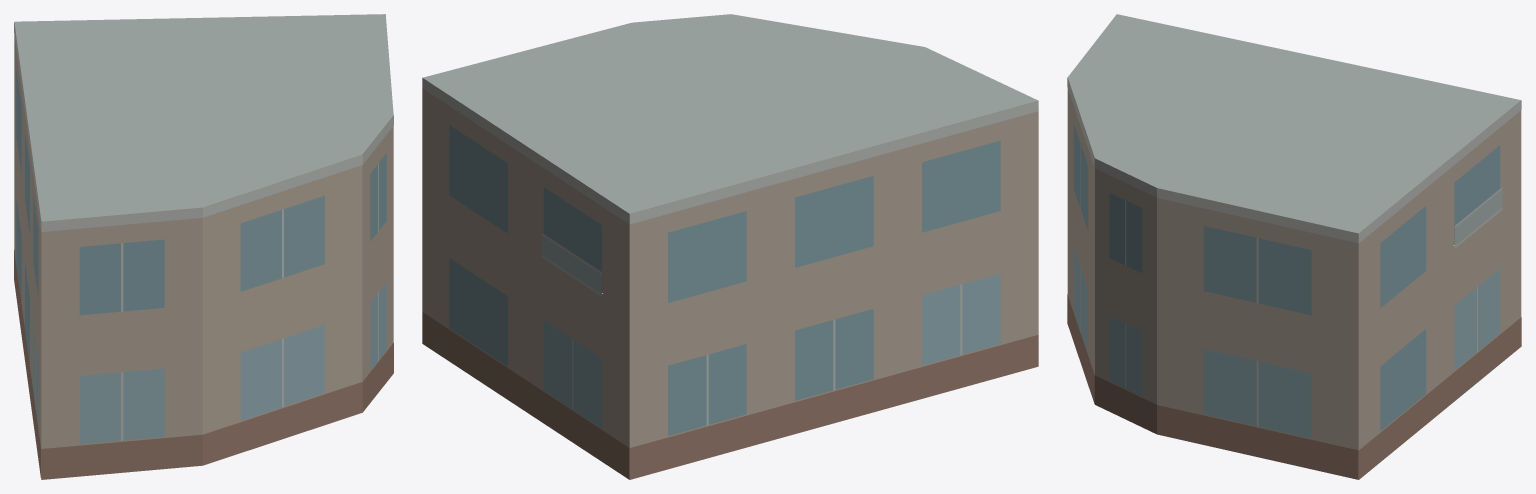
Rendered from survey-upis-32782588.glb.
3 views of the same model, side by side, from view 1: azimuth 30°, elevation 25°; view 2: azimuth 150°, elevation 25°; view 3: azimuth 270°, elevation 25° (orthographic). The views are drawn at different scales.
Parts seen in each view (by area): view 1: survey-upis-32782588.tmp; view 2: survey-upis-32782588.tmp; view 3: survey-upis-32782588.tmp.
Part boxes in pixels (box(x1,y1,x2,y2)): survey-upis-32782588.tmp: box(14, 14, 393, 479); survey-upis-32782588.tmp: box(422, 14, 1038, 479); survey-upis-32782588.tmp: box(1067, 14, 1521, 479).
Bounding box in the file's own units: 11.66 × 6.1 × 10.19.
